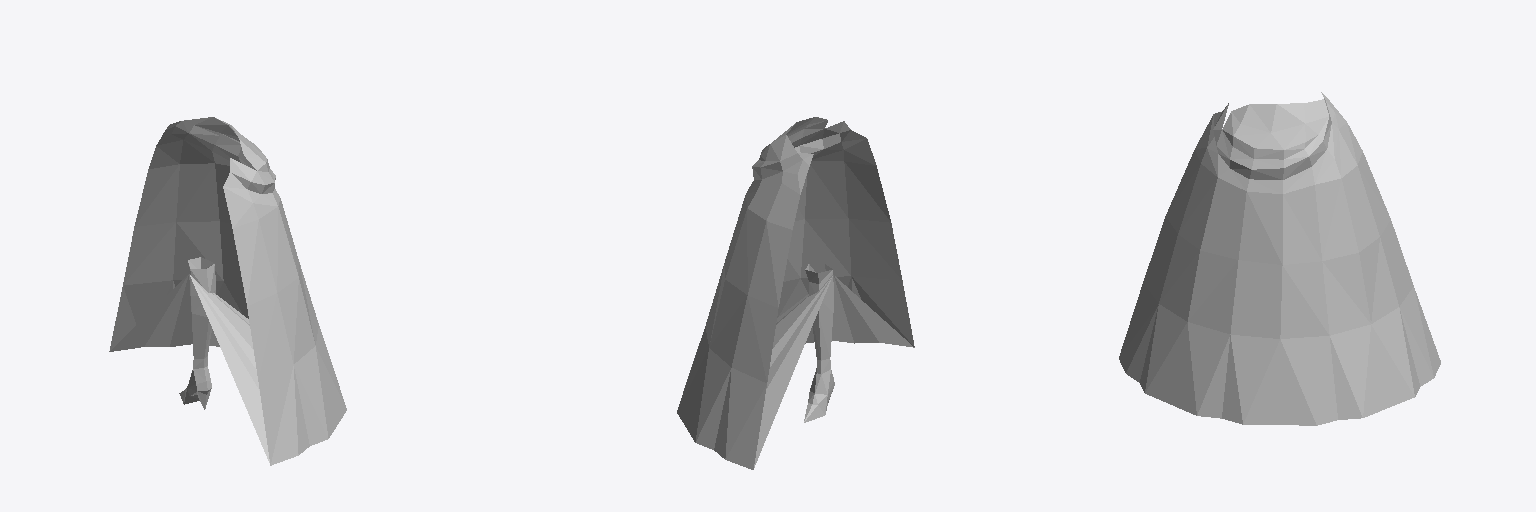
Rendered from PeachPD.obj.
3 views of the same model, side by side, from view 1: azimuth 30°, elevation 25°; view 2: azimuth 150°, elevation 25°; view 3: azimuth 270°, elevation 25° (orthographic).
Parts seen in each view (by area): view 1: Skirt2, Skirt3, Skirt1, Hip, LegR, PiernaDere_PeachBodyMat00, FootR; view 2: Skirt2, Skirt3, Skirt1, Hip, LegR, FootR, PiernaDere_PeachBodyMat00; view 3: Skirt2, Skirt1, Skirt3, Hip.
Boxes of the visible parts, x1=… form: Skirt2: x1=123, y1=221, x2=345, y2=465; Skirt3: x1=109, y1=274, x2=346, y2=465; Skirt1: x1=134, y1=163, x2=298, y2=305; Hip: x1=149, y1=117, x2=279, y2=227; LegR: x1=188, y1=257, x2=215, y2=380; PiernaDere_PeachBodyMat00: x1=223, y1=172, x2=252, y2=228; FootR: x1=179, y1=369, x2=211, y2=409; Skirt2: x1=677, y1=219, x2=914, y2=459; Skirt3: x1=677, y1=275, x2=914, y2=469; Skirt1: x1=725, y1=161, x2=890, y2=307; Hip: x1=746, y1=117, x2=874, y2=229; LegR: x1=805, y1=264, x2=833, y2=393; FootR: x1=804, y1=370, x2=834, y2=422; PiernaDere_PeachBodyMat00: x1=842, y1=130, x2=876, y2=165; Skirt2: x1=1119, y1=216, x2=1433, y2=424; Skirt1: x1=1166, y1=150, x2=1390, y2=264; Skirt3: x1=1119, y1=288, x2=1440, y2=425; Hip: x1=1195, y1=92, x2=1362, y2=193.
Bounding box in the file's own units: 52.29 × 105 × 110.